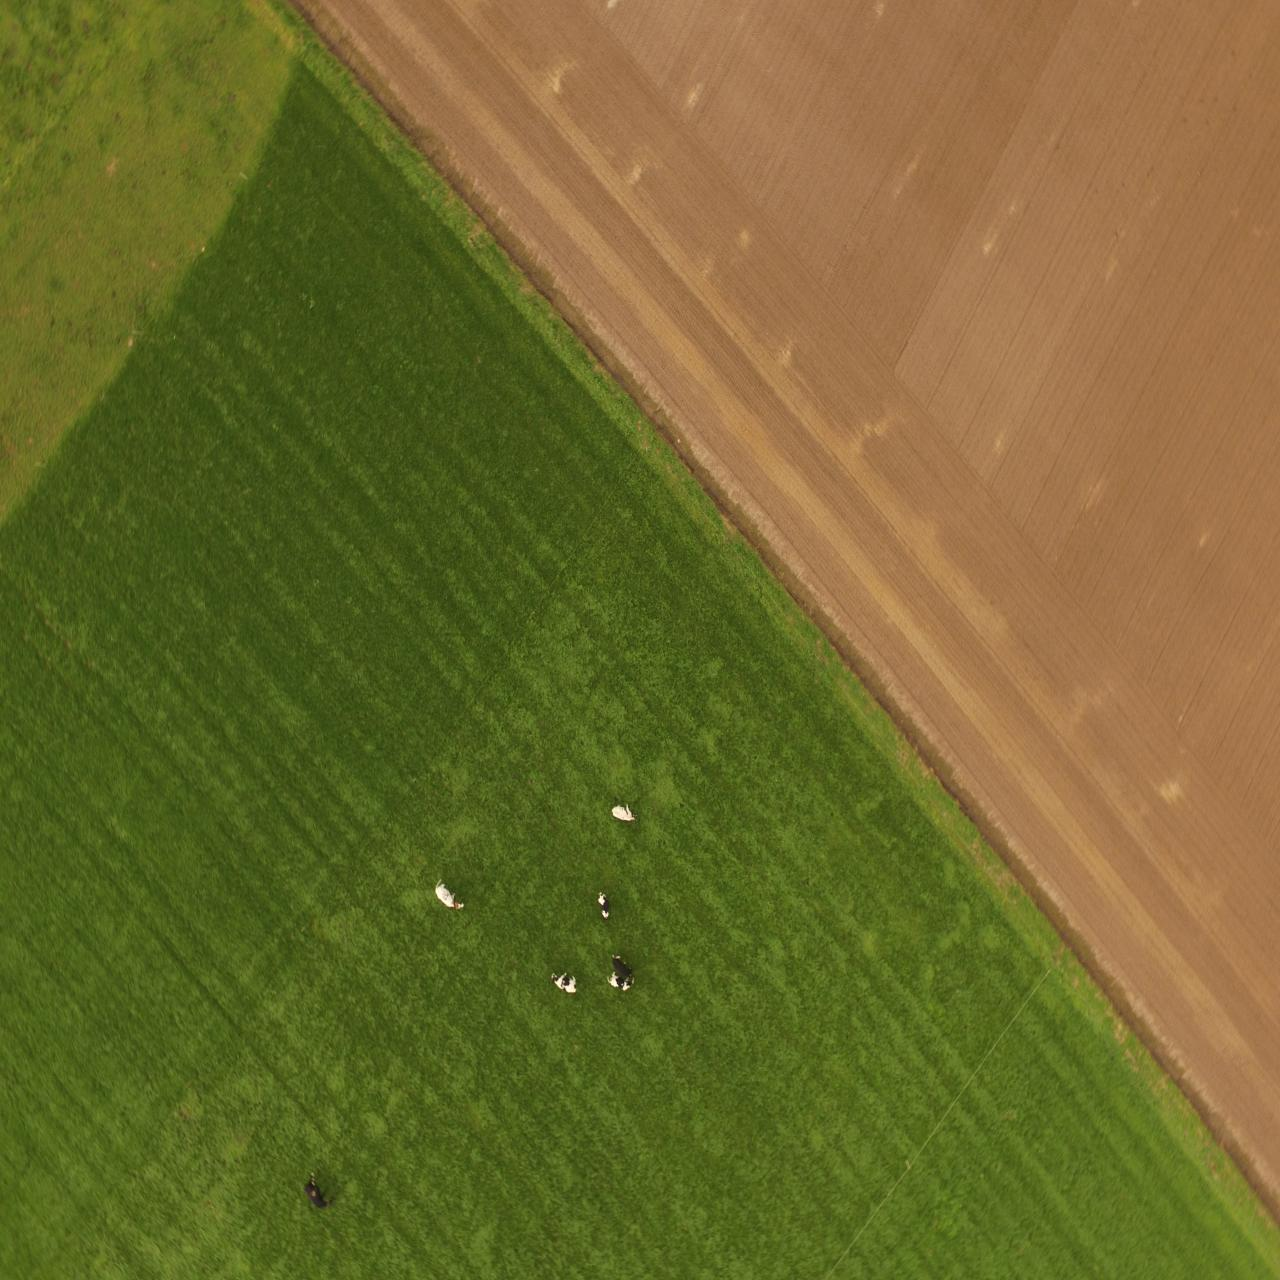cow: (300, 1171, 333, 1214), (434, 877, 467, 914), (551, 972, 580, 1002), (597, 974, 635, 993), (604, 954, 633, 979), (612, 803, 640, 826), (594, 890, 611, 924)
